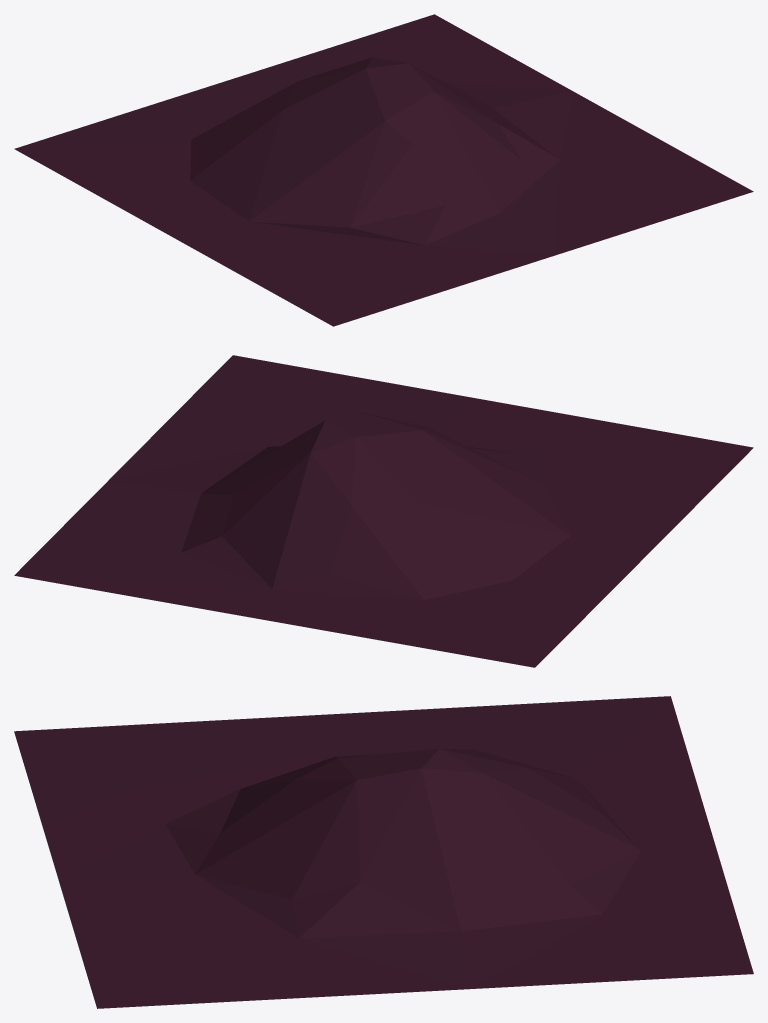
The model's file is lowpolyrock_1.fbx.
3 views of the same model, one above another, from view 1: azimuth 30°, elevation 25°; view 2: azimuth 150°, elevation 25°; view 3: azimuth 270°, elevation 25° (orthographic). The views are drawn at different scales.
Parts seen in each view (by area): view 1: rock_1; view 2: rock_1; view 3: rock_1.
Part boxes in pixels (<box>): rock_1: <box>14,14,753,326</box>; rock_1: <box>14,355,753,667</box>; rock_1: <box>14,696,753,1008</box>.
Size of the model in its own units: 11692 by 1899 by 11692.
